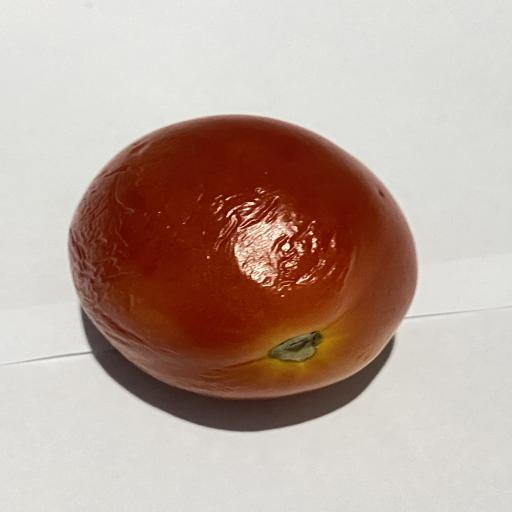spoiled: (69, 115, 416, 398)
